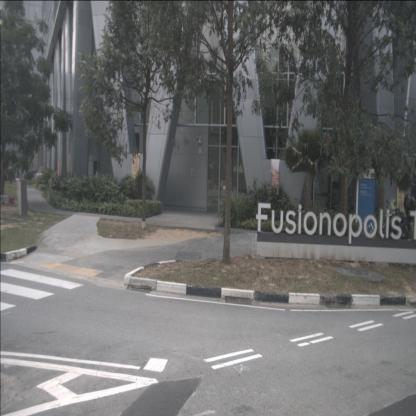vehicle-motorcycle: (381, 193, 416, 242)
